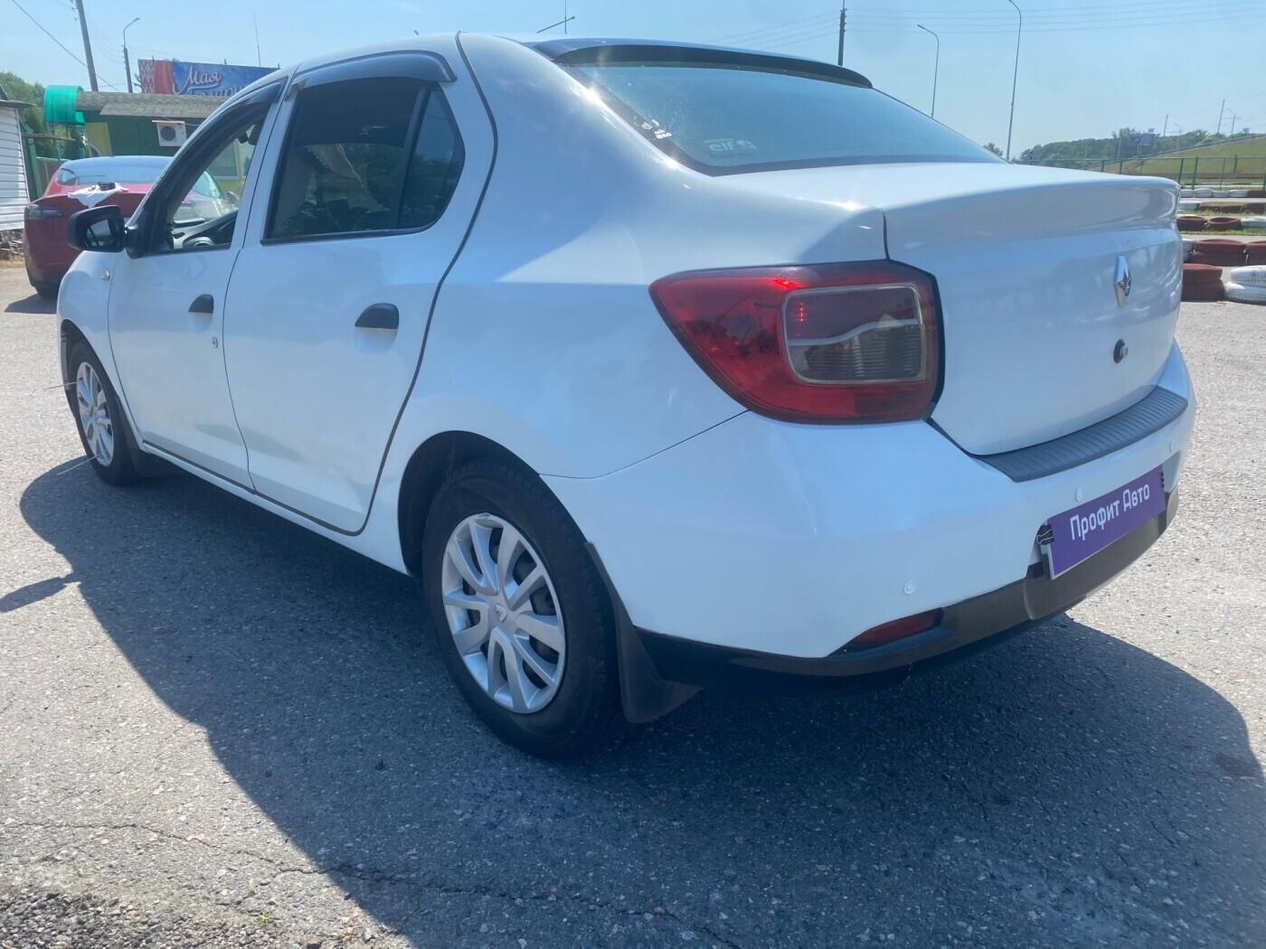Logan_2018: (57, 28, 1200, 757)
